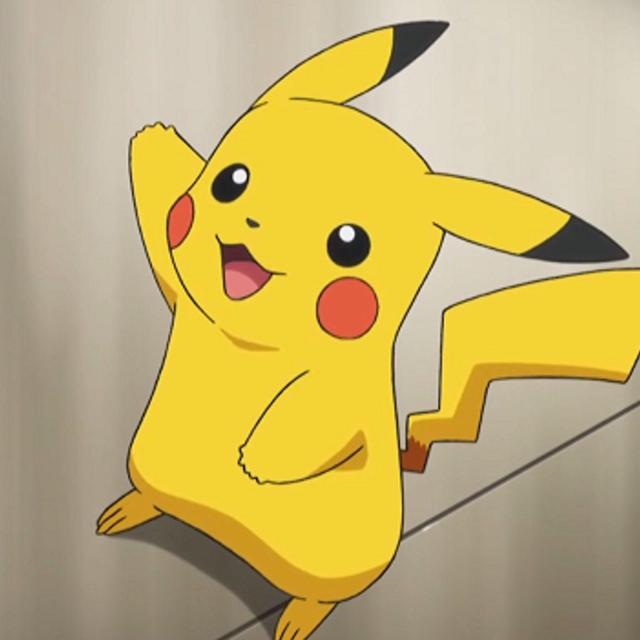pikachu: (100, 25, 640, 640)
